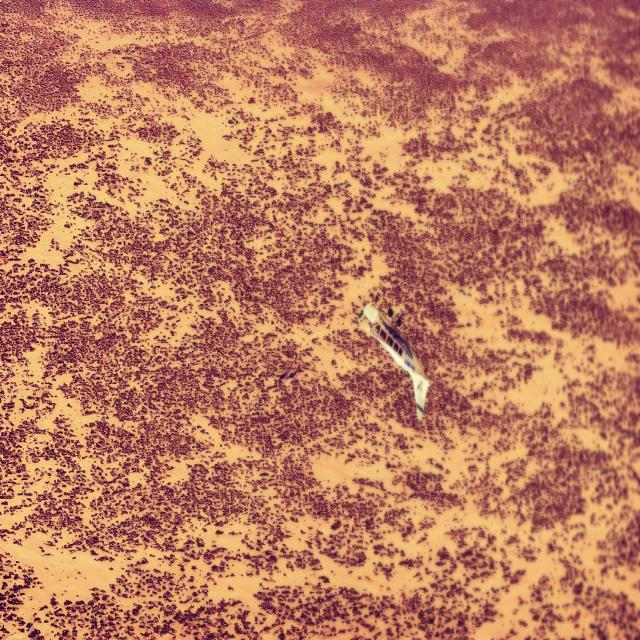airplane: (357, 302, 431, 421)
